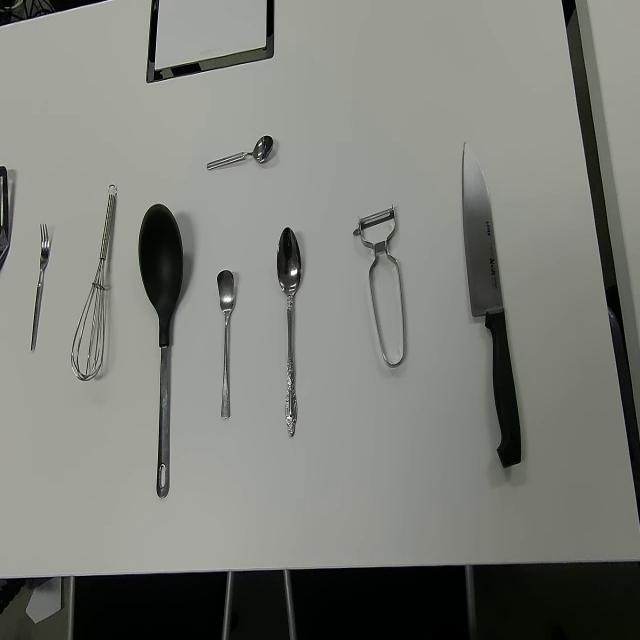Desert-Spoon: (276, 225, 302, 440)
Dinner-Fork: (30, 221, 50, 356)
Kitchen-Knife: (461, 139, 522, 470)
Peeler: (353, 205, 405, 368)
Serving-Spoon: (137, 200, 185, 500), (0, 163, 11, 279)
Tea-Spoon: (218, 268, 238, 421), (205, 134, 273, 174)
Whisk: (70, 183, 118, 381)
